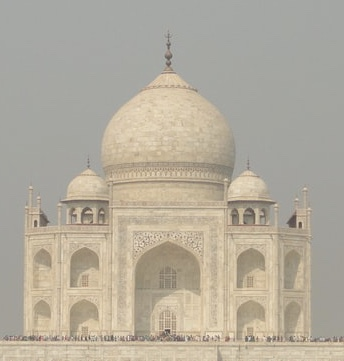Mosque: (16, 29, 323, 345)
